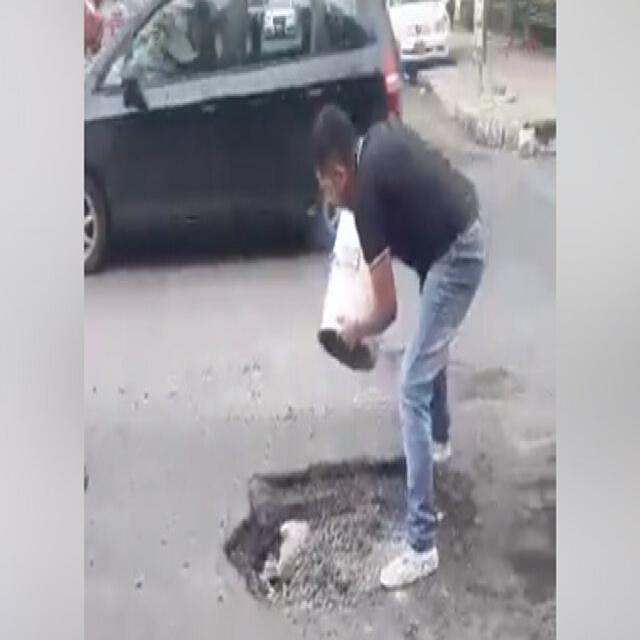Buraco: (220, 453, 487, 618)
